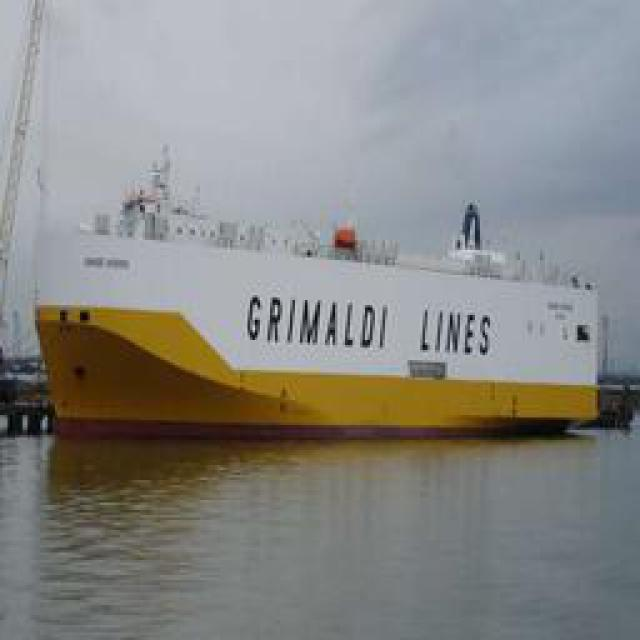Ship: (33, 159, 611, 432)
